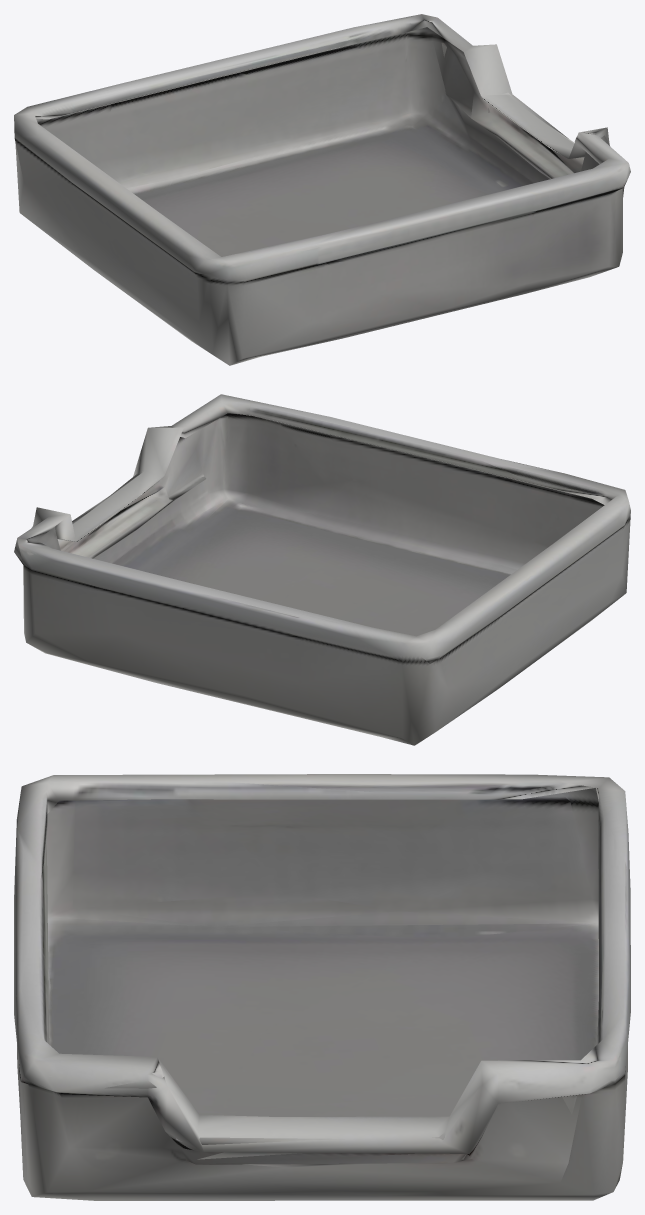
Rendered from BigStorage.fbx.
3 views of the same model, one above another, from view 1: azimuth 30°, elevation 25°; view 2: azimuth 150°, elevation 25°; view 3: azimuth 270°, elevation 25° (orthographic). The views are drawn at different scales.
Visible parts, largest first — view 1: tripo_node_9510703a; view 2: tripo_node_9510703a; view 3: tripo_node_9510703a.
Boxes of the visible parts, x1,y1,x2,y2 form: tripo_node_9510703a: (14, 14, 630, 365); tripo_node_9510703a: (14, 394, 630, 745); tripo_node_9510703a: (14, 774, 630, 1200).
Size of the model in its own units: 45.34 by 10.53 by 38.07.
